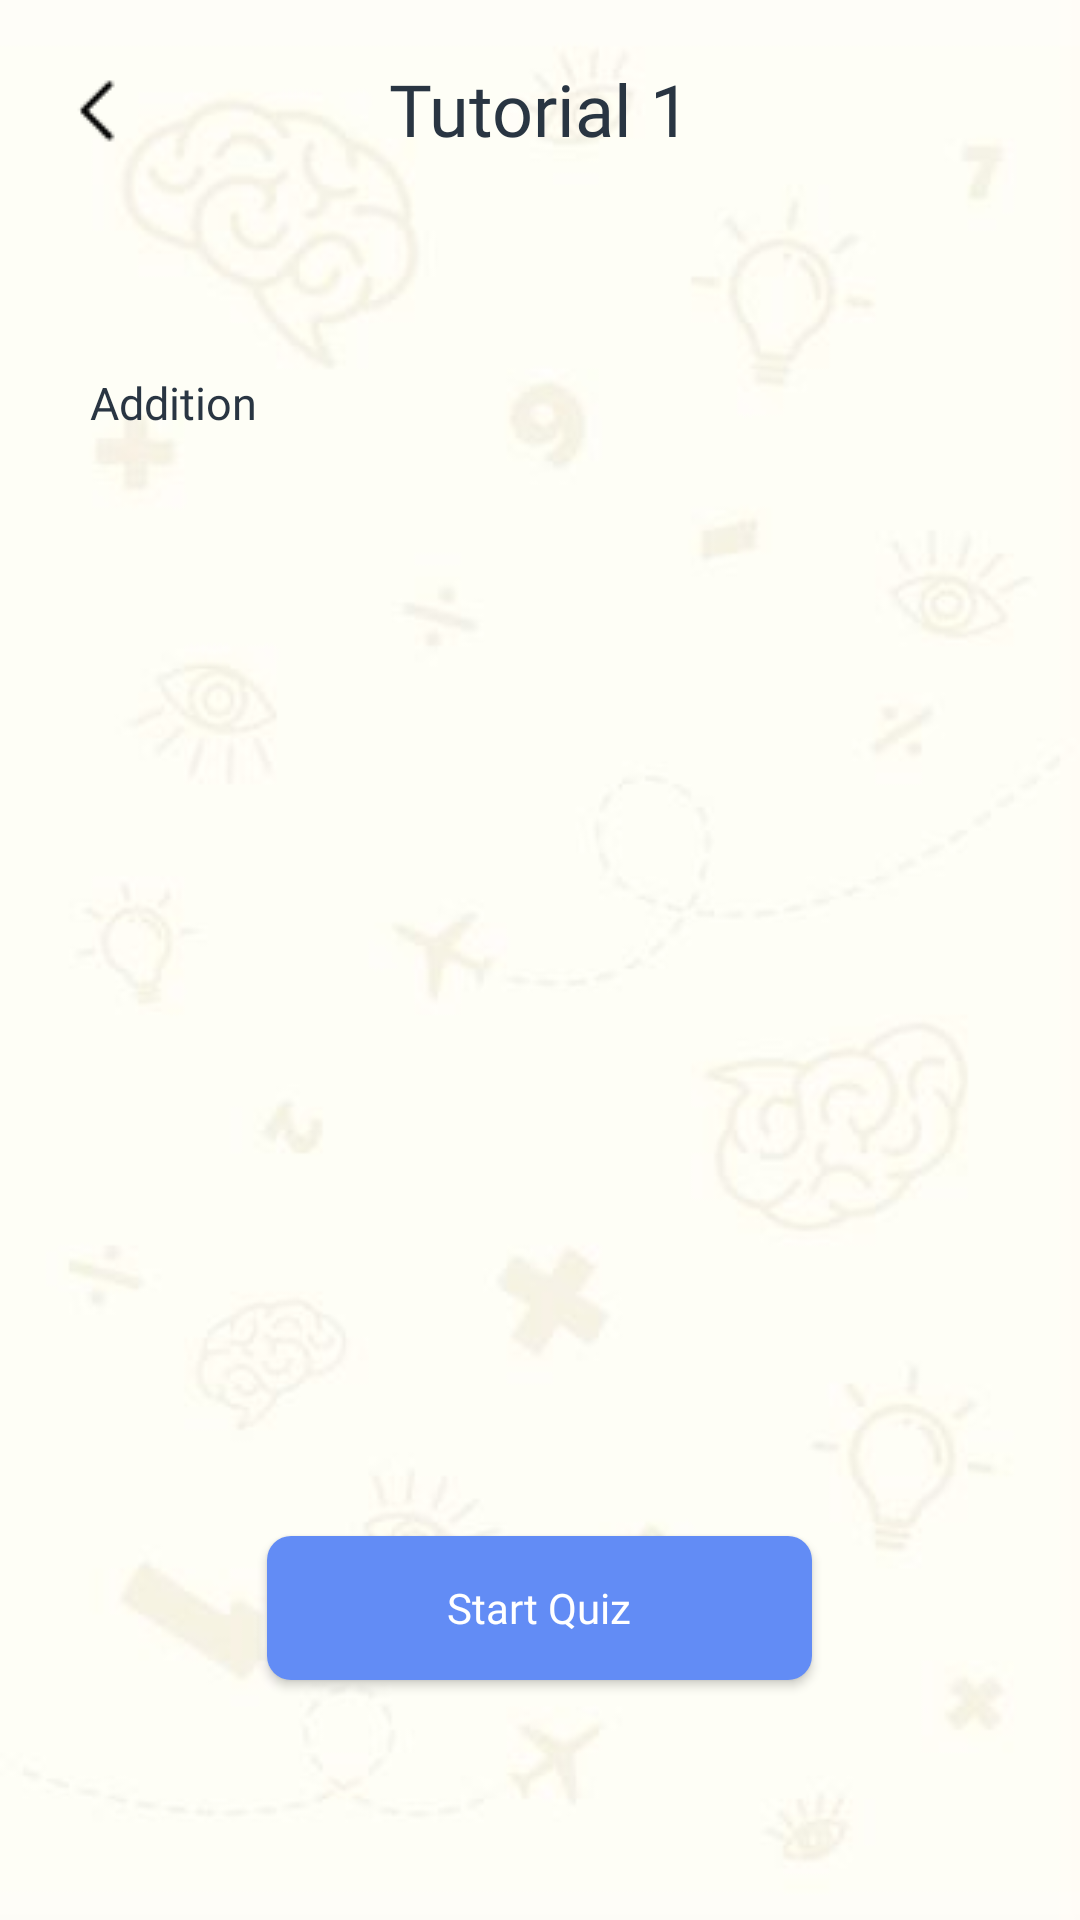

Named icons in this screenshot (1080px×1920px) and their centers, [x,y]:
back: [97,111]
